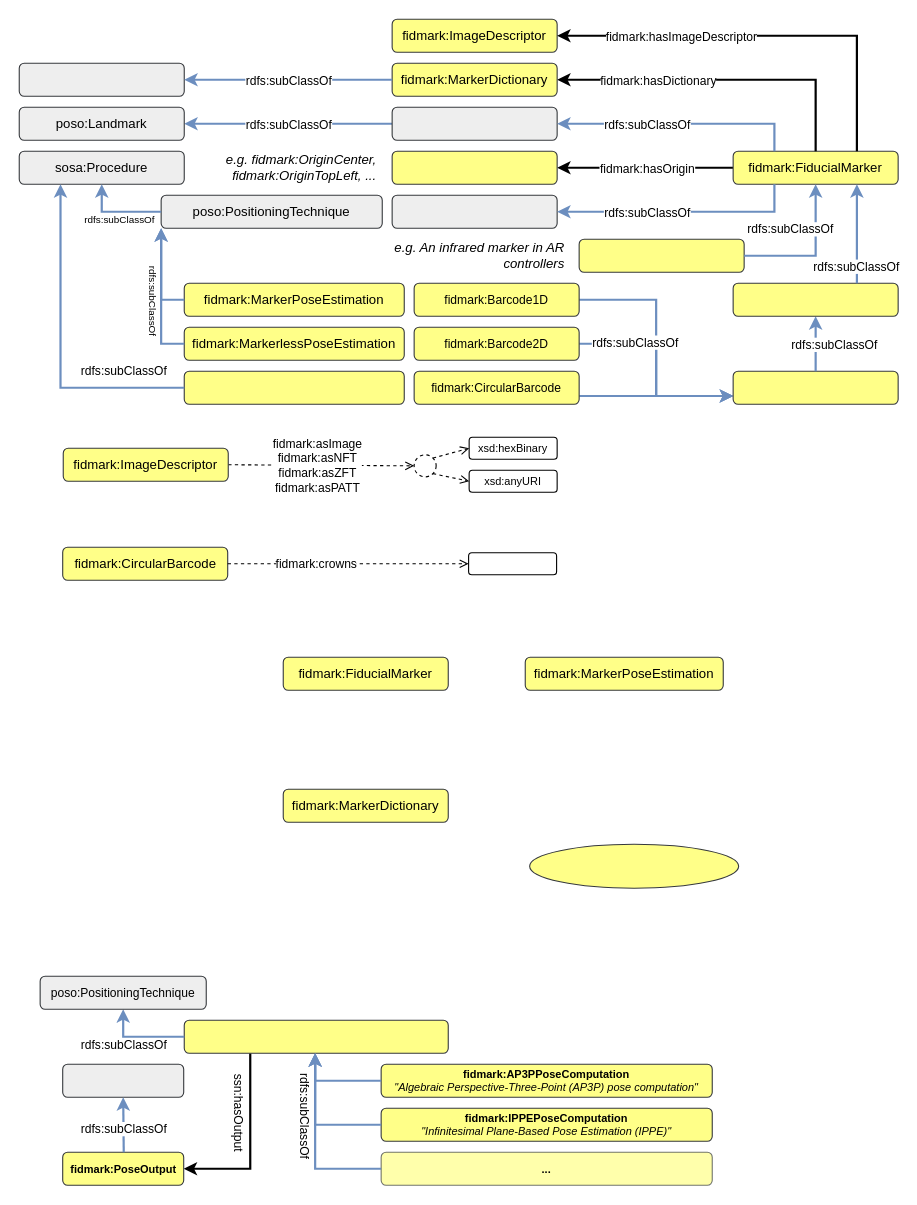
Some shapes in this 917 by 1205 pixel diagram are drawn without their labels. The shapes that lost their labels are listed below. From the top down, each one's centre as x and y in pixels, then its label:
point 101,79: ssn:Property
point 474,123: poso:VisualLandmark
point 474,167: fidmark:MarkerOrigin
point 474,211: poso:TrackedFeature
point 661,255: fidmark:ActiveMarker
point 815,299: fidmark:PassiveMarker
point 293,387: fidmark:MarkerDetection
point 815,387: fidmark:Barcode
point 512,563: xsd:integer
point 634,865: fidmark:DICT_ARUCO_ORIGINAL
point 315,1036: fidmark:PnPPoseComputation " Perspective-n-Point (PnP) pose computation"
point 123,1080: ssn:Output
